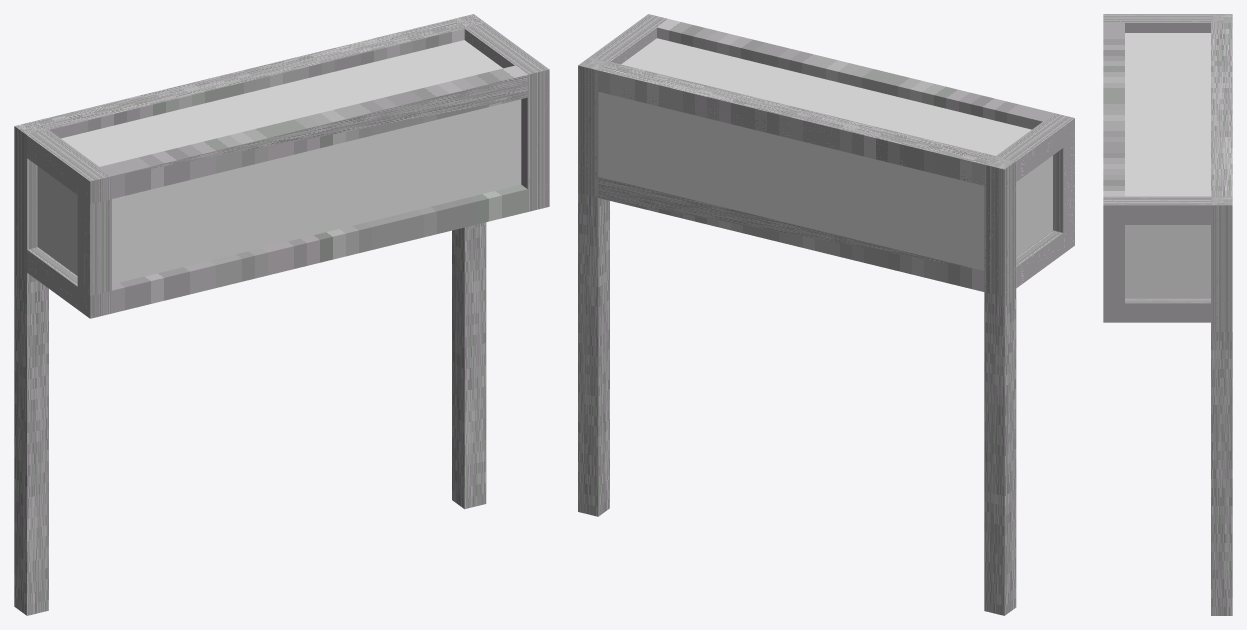
File: RollingShutter.glb
3 views of the same model, side by side, from view 1: azimuth 30°, elevation 25°; view 2: azimuth 150°, elevation 25°; view 3: azimuth 270°, elevation 25° (orthographic). The views are drawn at different scales.
Visible parts, largest first — view 1: PillarLeft2; view 2: PillarLeft2; view 3: PillarLeft2.
Part boxes in pixels (x1,y1,x2,y2): PillarLeft2: [14, 14, 549, 615]; PillarLeft2: [578, 14, 1074, 615]; PillarLeft2: [1103, 14, 1232, 615].
Bounding box in the file's own units: 4.2 × 4.2 × 1.2.
2 materials, 1 textured.
